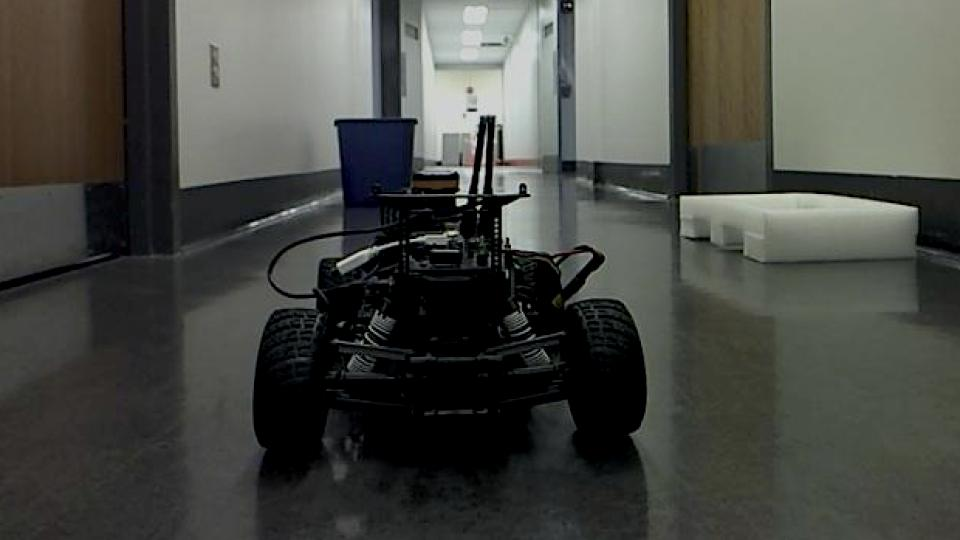car: (248, 114, 650, 459)
